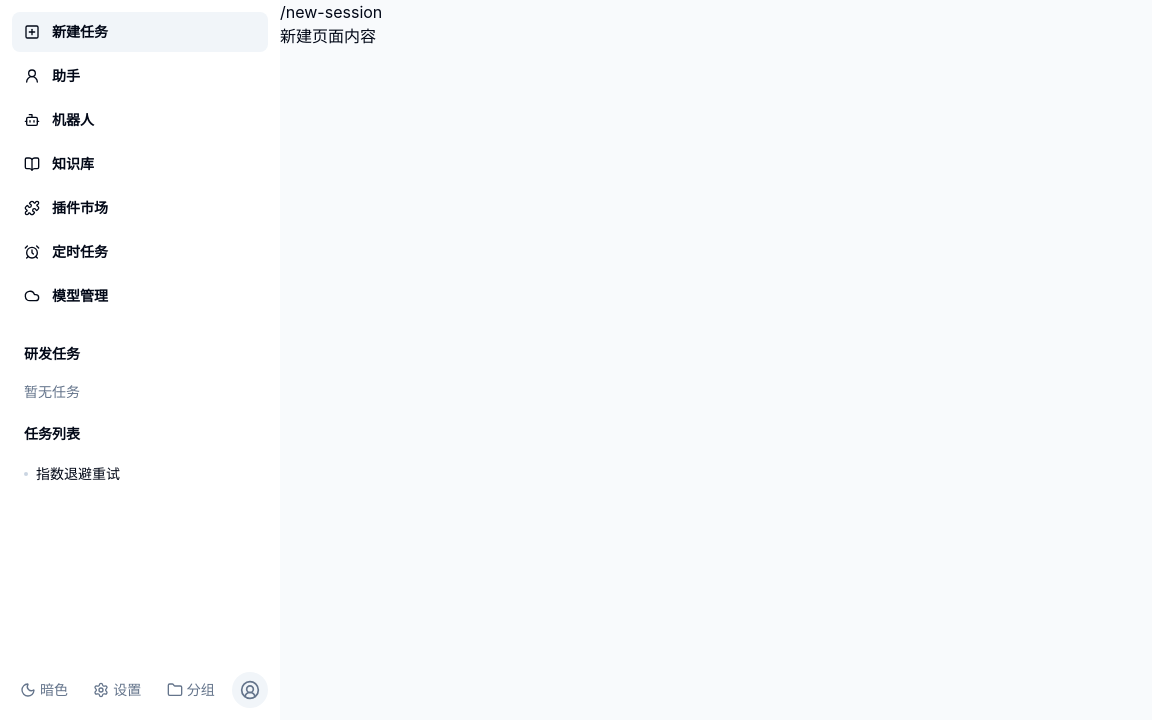
Scenario: WorkspaceLayout › opens session group management from the sidebar footer
Click the button "分组" at coordinates (191, 690), box [159,674,223,706]
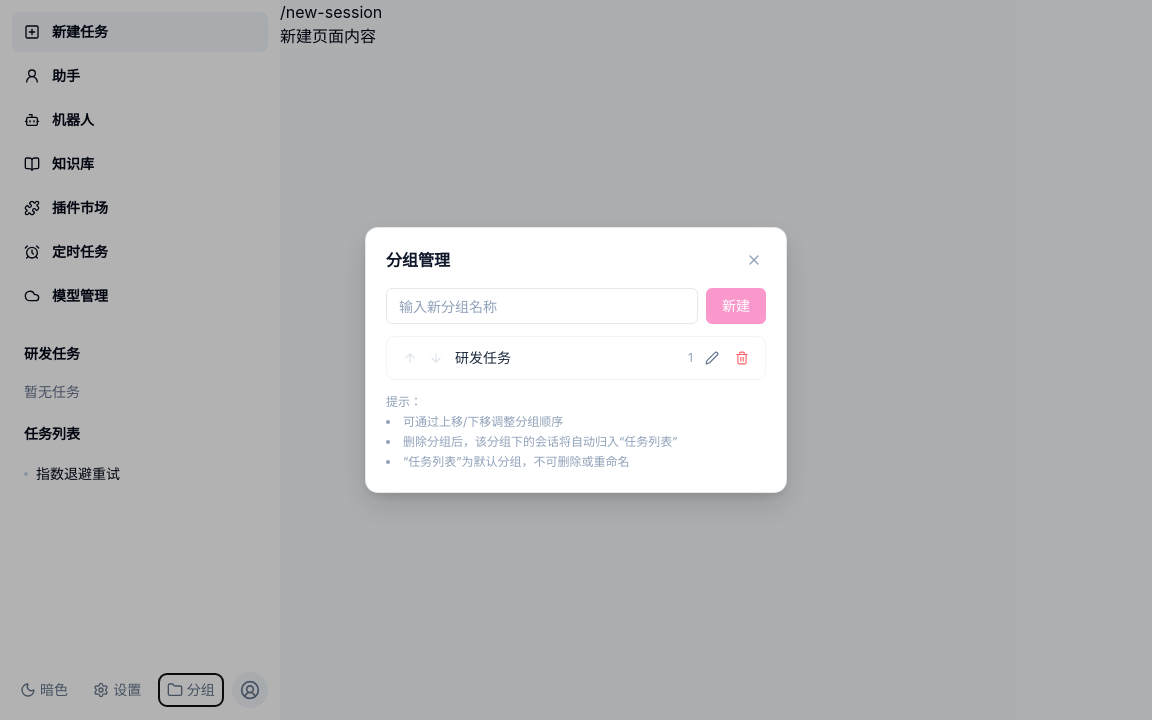
Expected: the dialog "分组管理" is shown, [366,228,786,492]
Expected: the text "研发任务" is shown, [455,349,511,366]
